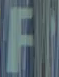Parking: (8, 2, 51, 72)
